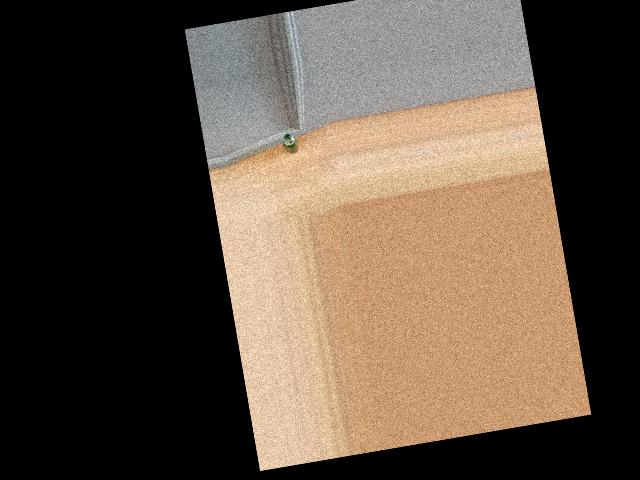beer: (281, 132, 299, 154)
